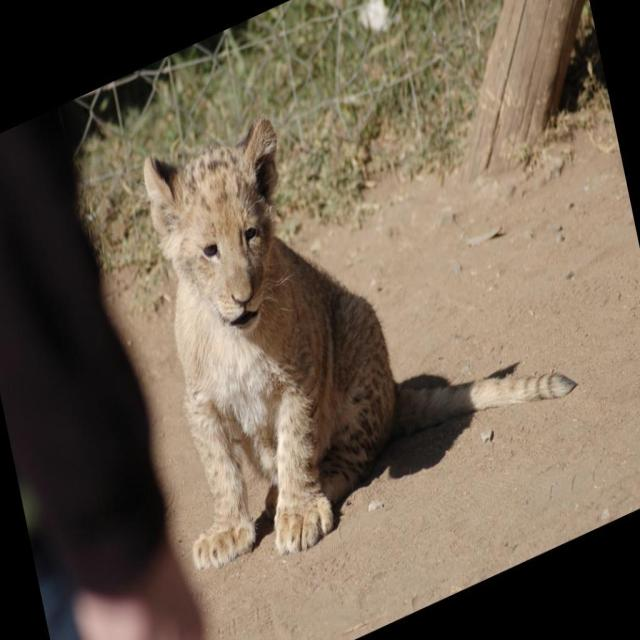Lion: (116, 0, 586, 595)
